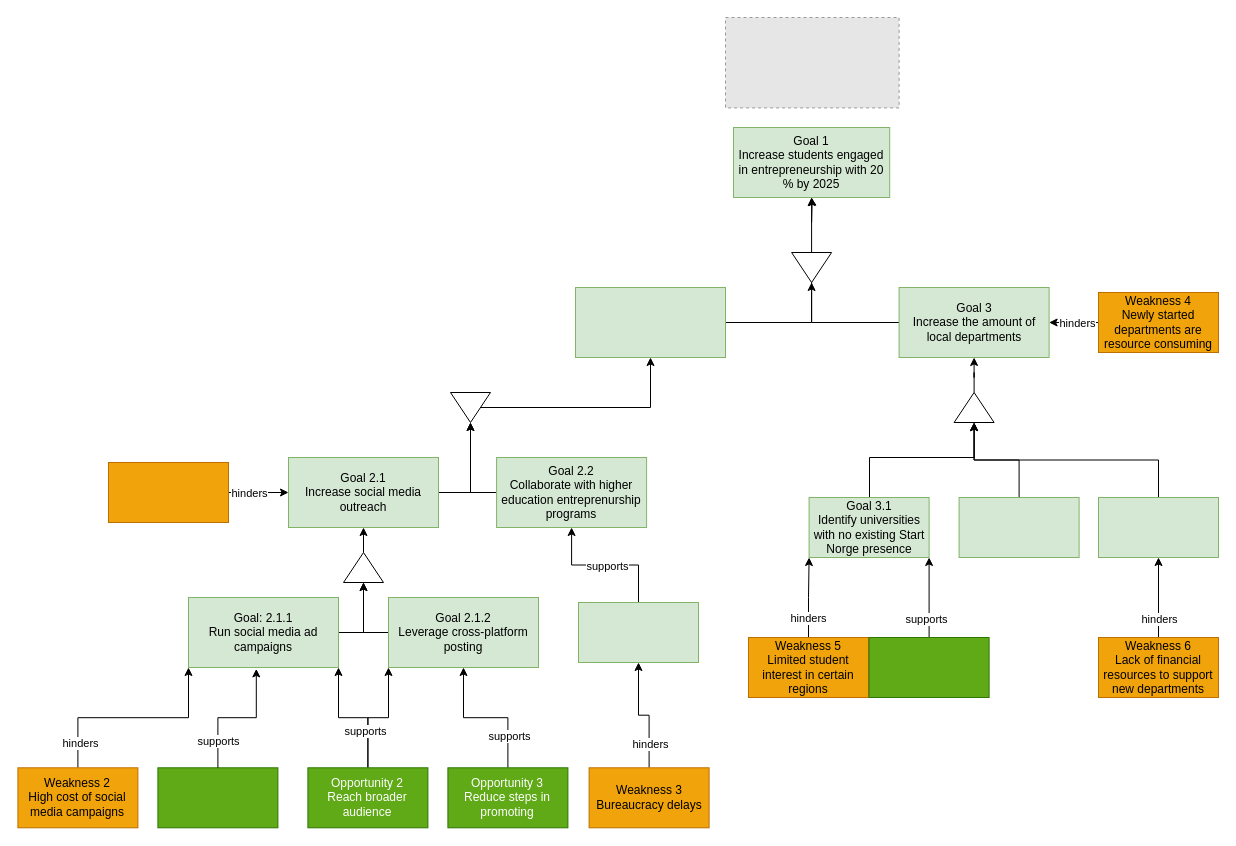
Image size: 1236x846. Some labels were removed from this diagram. Grey dashed boxes stand in for pictures. Here are the shapes that lost their labels. From the top down, the centre of each, then its label:
point 650,322: Goal 2 Increase event participation at Venture Cup
point 168,492: Weakness 1 Lack of social media staff
point 1018,527: Goal 3.2 Develop a local department toolkit
point 1158,527: Goal 3.3 Offer incentives for new local departments
point 638,632: Goal 2.2.1 Give study credit for participating in Venture Cup
point 928,667: Opportunity 4 Growing interest in entreprenurship among students
point 217,797: Opportunity 1 Access to free tools for content creation
